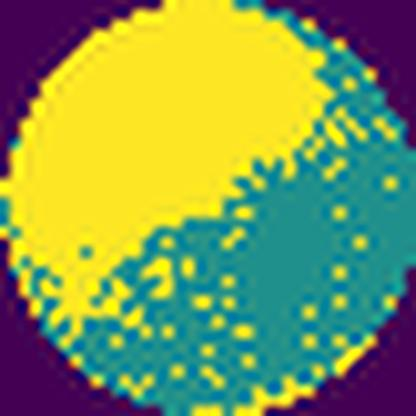Edge-Loc: (0, 0, 334, 322)
